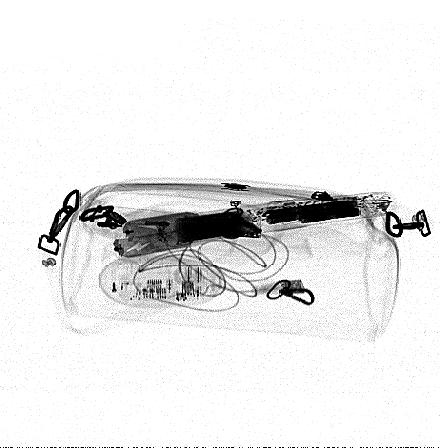Baton: (111, 190, 396, 260)
